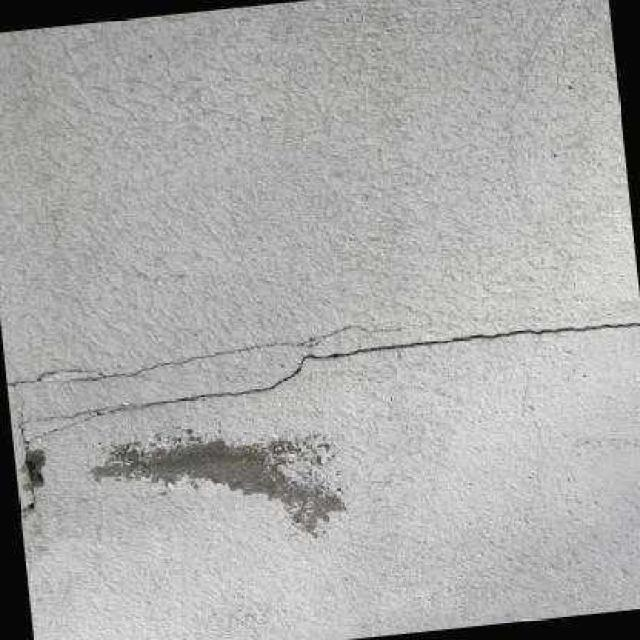D00: (125, 317, 640, 410), (5, 323, 347, 390)
